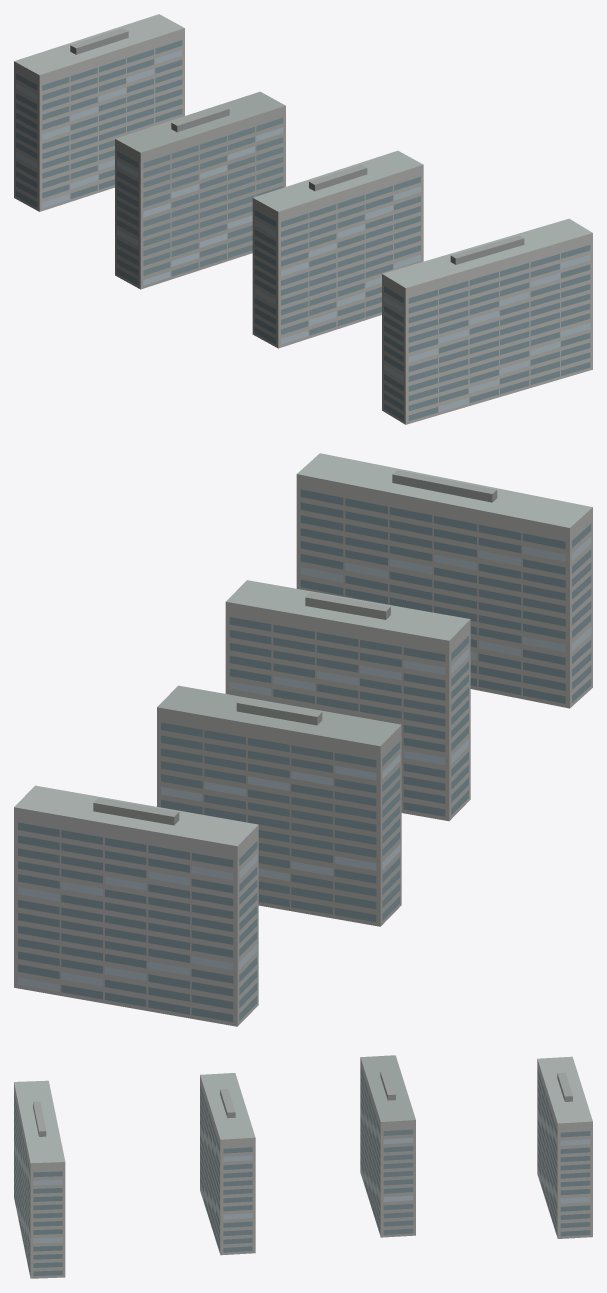
Rendered from apt-a13203401.glb.
The picture shows the model from 3 angles, top to bottom: view 1: azimuth 30°, elevation 25°; view 2: azimuth 150°, elevation 25°; view 3: azimuth 270°, elevation 25°; orthographic projection. The views are drawn at different scales.
Parts seen in each view (by area): view 1: apt-a13203401; view 2: apt-a13203401; view 3: apt-a13203401.
Boxes of the visible parts, x1,y1,x2,y2 form: apt-a13203401: (14, 14, 592, 424); apt-a13203401: (14, 453, 592, 1026); apt-a13203401: (14, 1055, 592, 1278).
Bounding box in the file's own units: 74.68 × 39 × 169.
